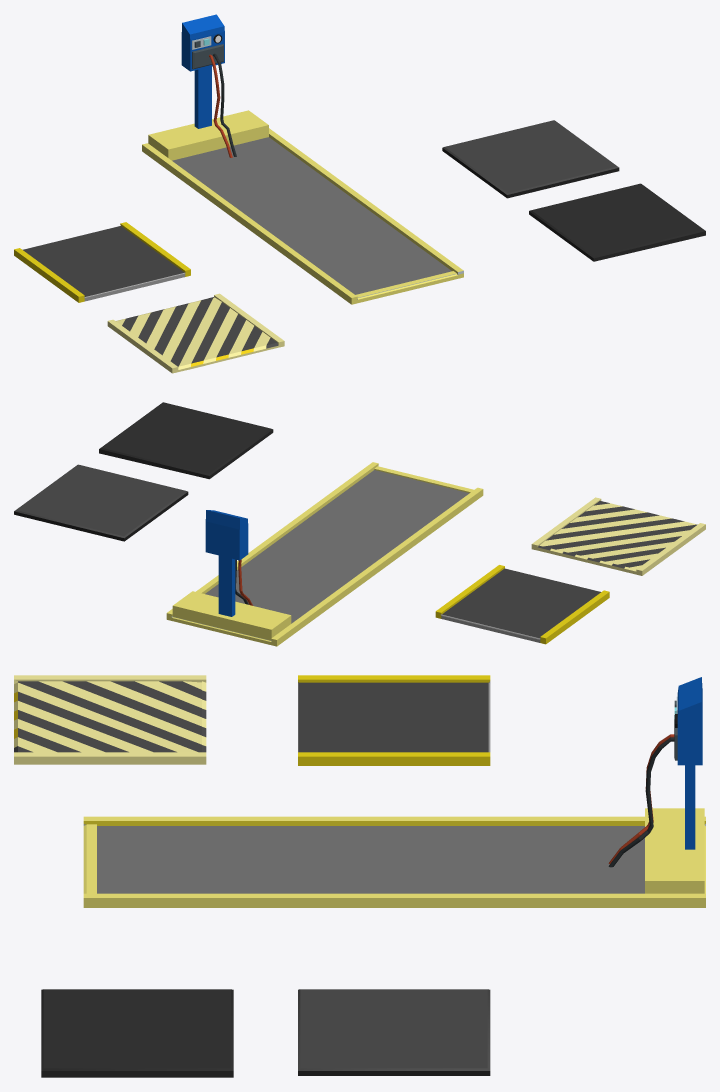
The model's file is StructureCompilation.fbx.
3 views of the same model, one above another, from view 1: azimuth 30°, elevation 25°; view 2: azimuth 150°, elevation 25°; view 3: azimuth 270°, elevation 25° (orthographic). The views are drawn at different scales.
Parts seen in each view (by area): view 1: MHE_Charger, StageLaneTile, Pedestrian_Lane, YardTile, FloorTile; view 2: MHE_Charger, StageLaneTile, Pedestrian_Lane, YardTile, FloorTile; view 3: MHE_Charger, StageLaneTile, Pedestrian_Lane, YardTile, FloorTile.
Part boxes in pixels (box(x1,y1,x2,y2)): MHE_Charger: box(142, 14, 463, 304); StageLaneTile: box(14, 222, 190, 302); Pedestrian_Lane: box(107, 293, 284, 373); YardTile: box(529, 183, 705, 261); FloorTile: box(442, 120, 619, 198); MHE_Charger: box(166, 462, 483, 646); StageLaneTile: box(435, 565, 609, 644); Pedestrian_Lane: box(531, 497, 705, 575); YardTile: box(99, 402, 273, 479); FloorTile: box(14, 464, 188, 541); MHE_Charger: box(83, 677, 705, 907); StageLaneTile: box(298, 675, 490, 765); Pedestrian_Lane: box(14, 675, 206, 764); YardTile: box(41, 989, 233, 1077); FloorTile: box(298, 989, 490, 1075).
Size of the model in its own units: 6.41 by 1.39 by 4.77.
